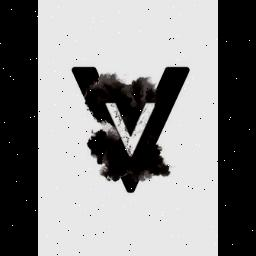v: (102, 94, 160, 168)
